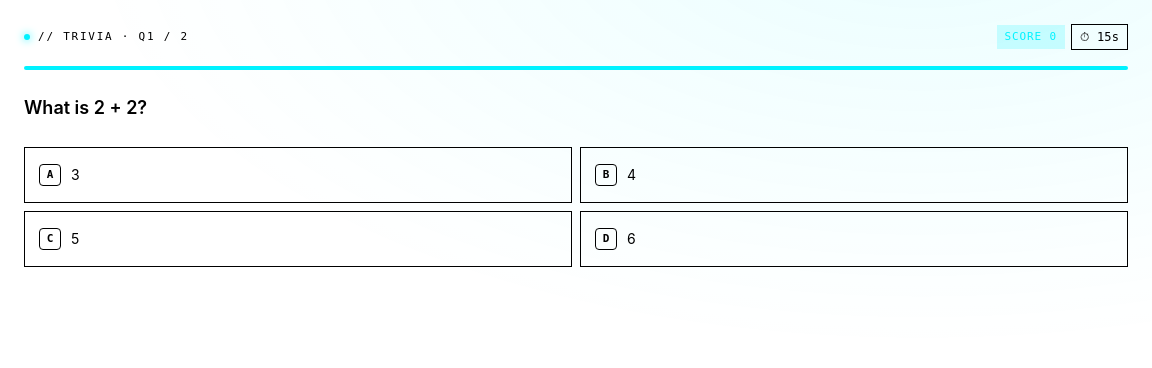
TriviaExperience › advances to the next question after clicking Next
The image size is (1152, 368).
Click the text "4": coordinates (632, 175) [627,165,636,185]
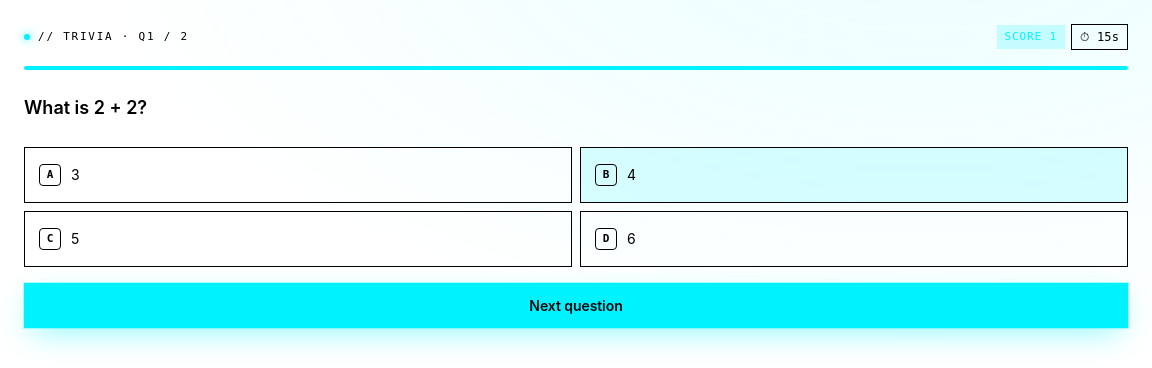
Click the button "Next question": coordinates (576, 305) [24,283,1128,328]
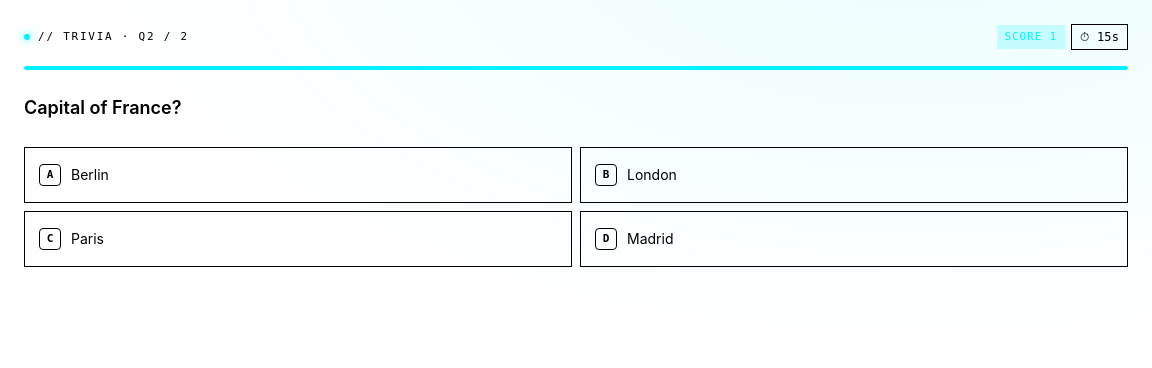
Expected: the text "Capital of France?" is shown, [24,97,182,118]
